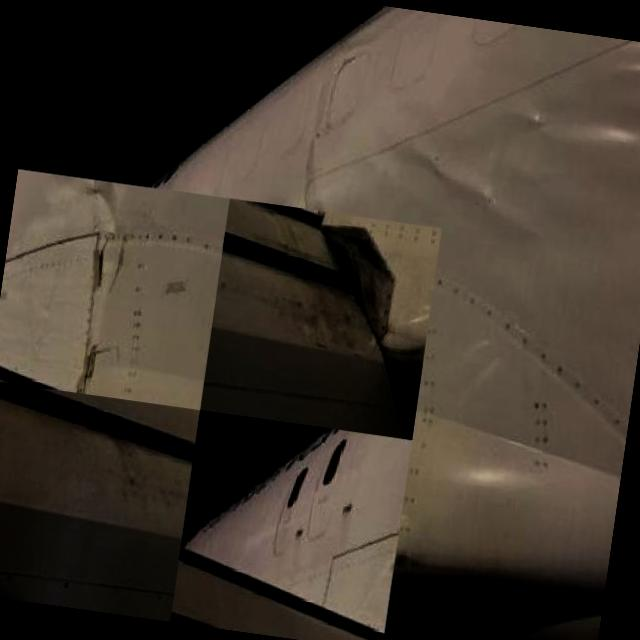dent: (383, 121, 532, 220), (76, 182, 132, 282), (446, 442, 530, 490), (604, 40, 640, 103)
